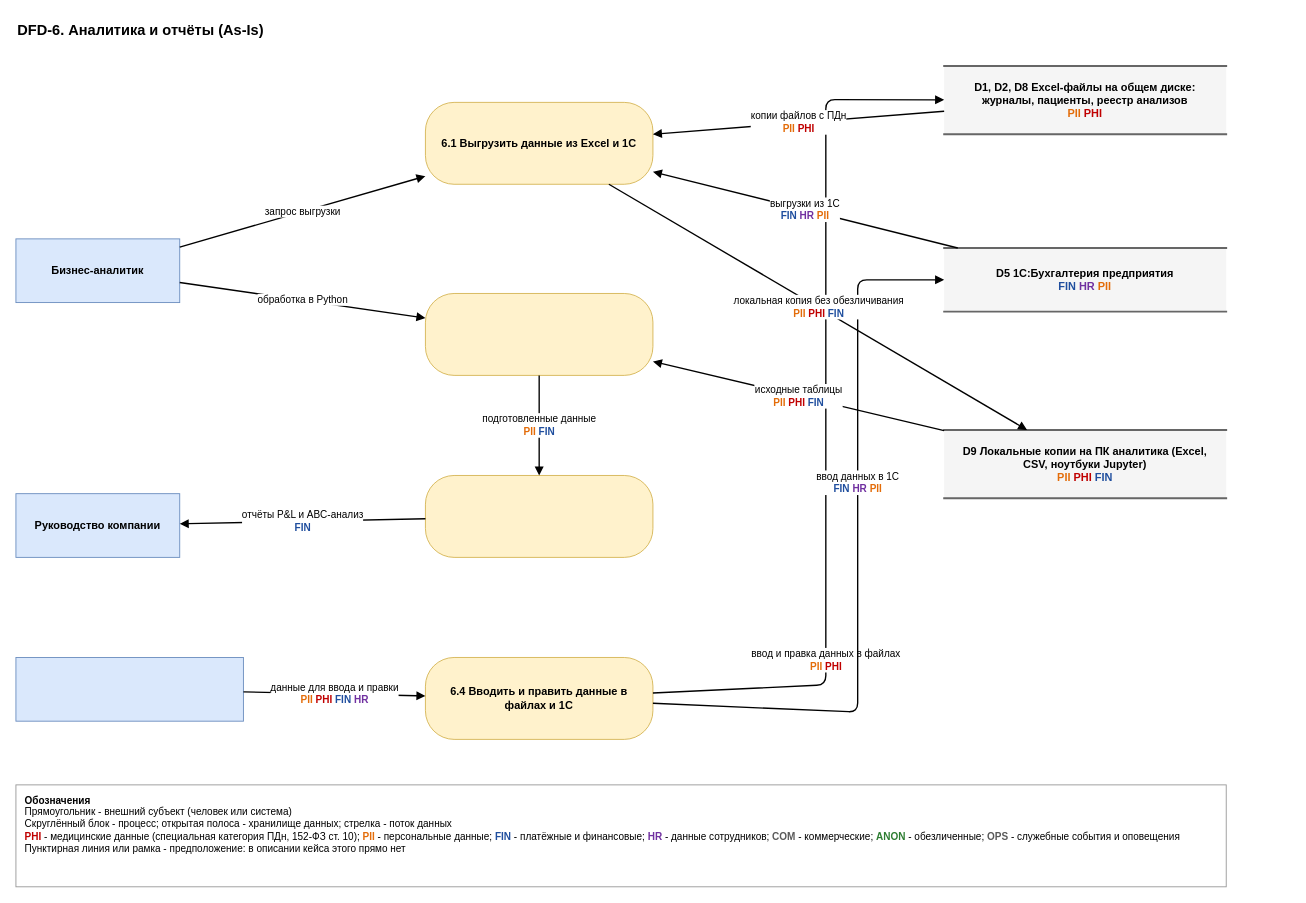
Image size: 1306x903. Some labels were removed from this diagram. Here are the shapes that lost their labels. From the top down, the centre of each, then its label:
At (x=539, y=334): "6.2 Подготовить данные (Jupyter, Python)".
At (x=539, y=516): "6.3 Построить отчёты (P&L, ABC- анализ)".
At (x=129, y=689): "Сотрудники компании".
